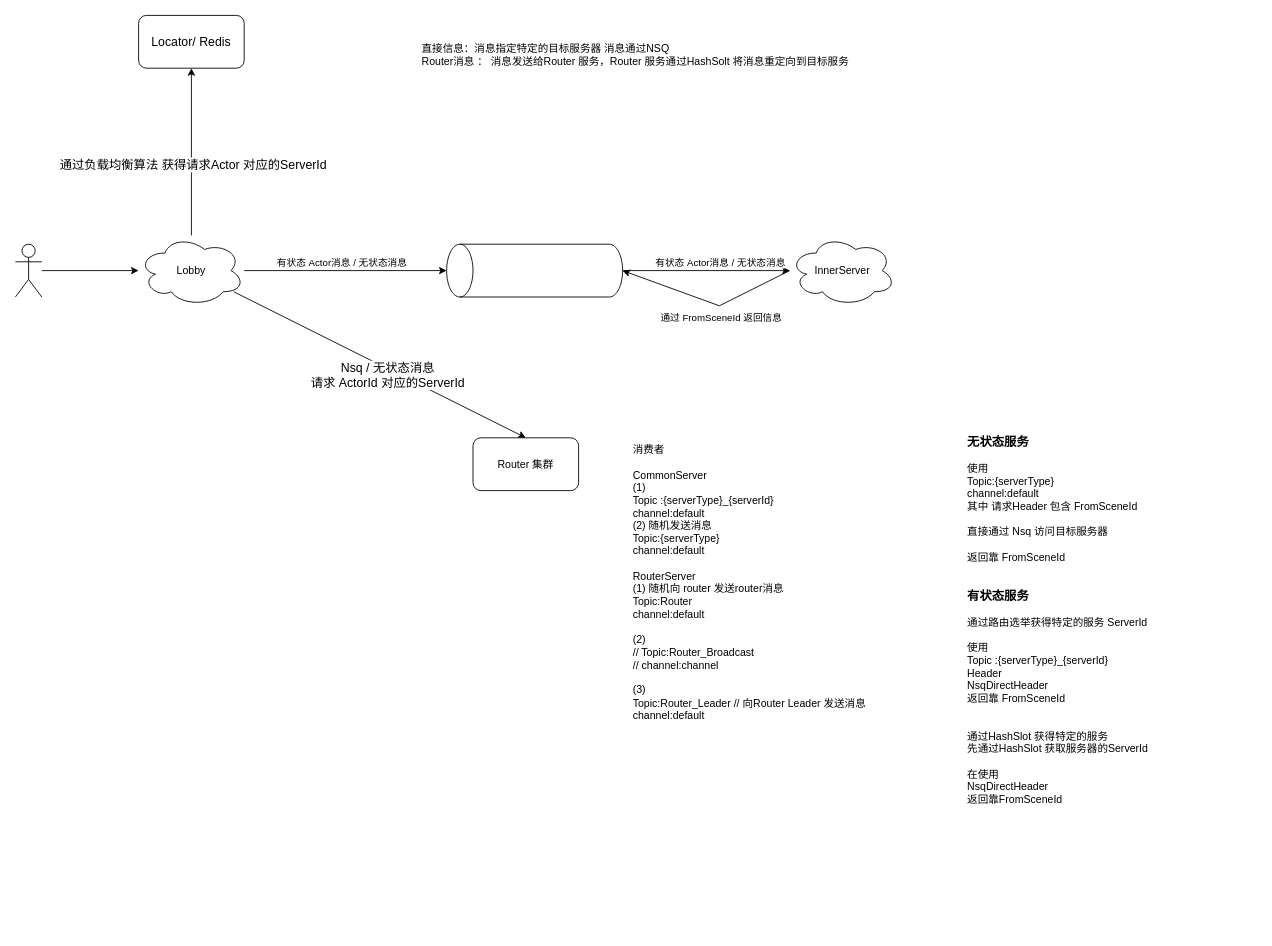
Some shapes in this 1272 by 946 pixel diagram are drawn without their labels. Here are the shapes that lost their labels. From the top down, the centre of each, then its label:
(x=28, y=270): Client
(x=534, y=270): nsq
